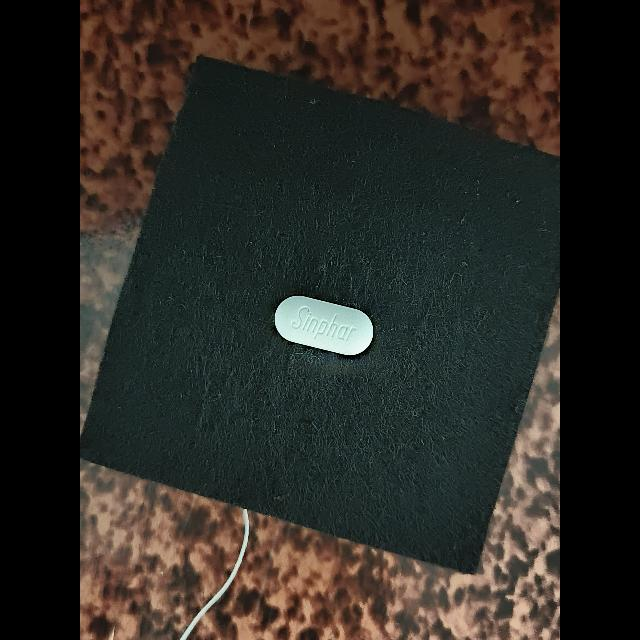Intact Pill: (274, 296, 373, 355)
